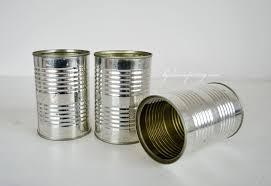Tin: (137, 52, 254, 173), (21, 44, 92, 144), (91, 33, 140, 154)
